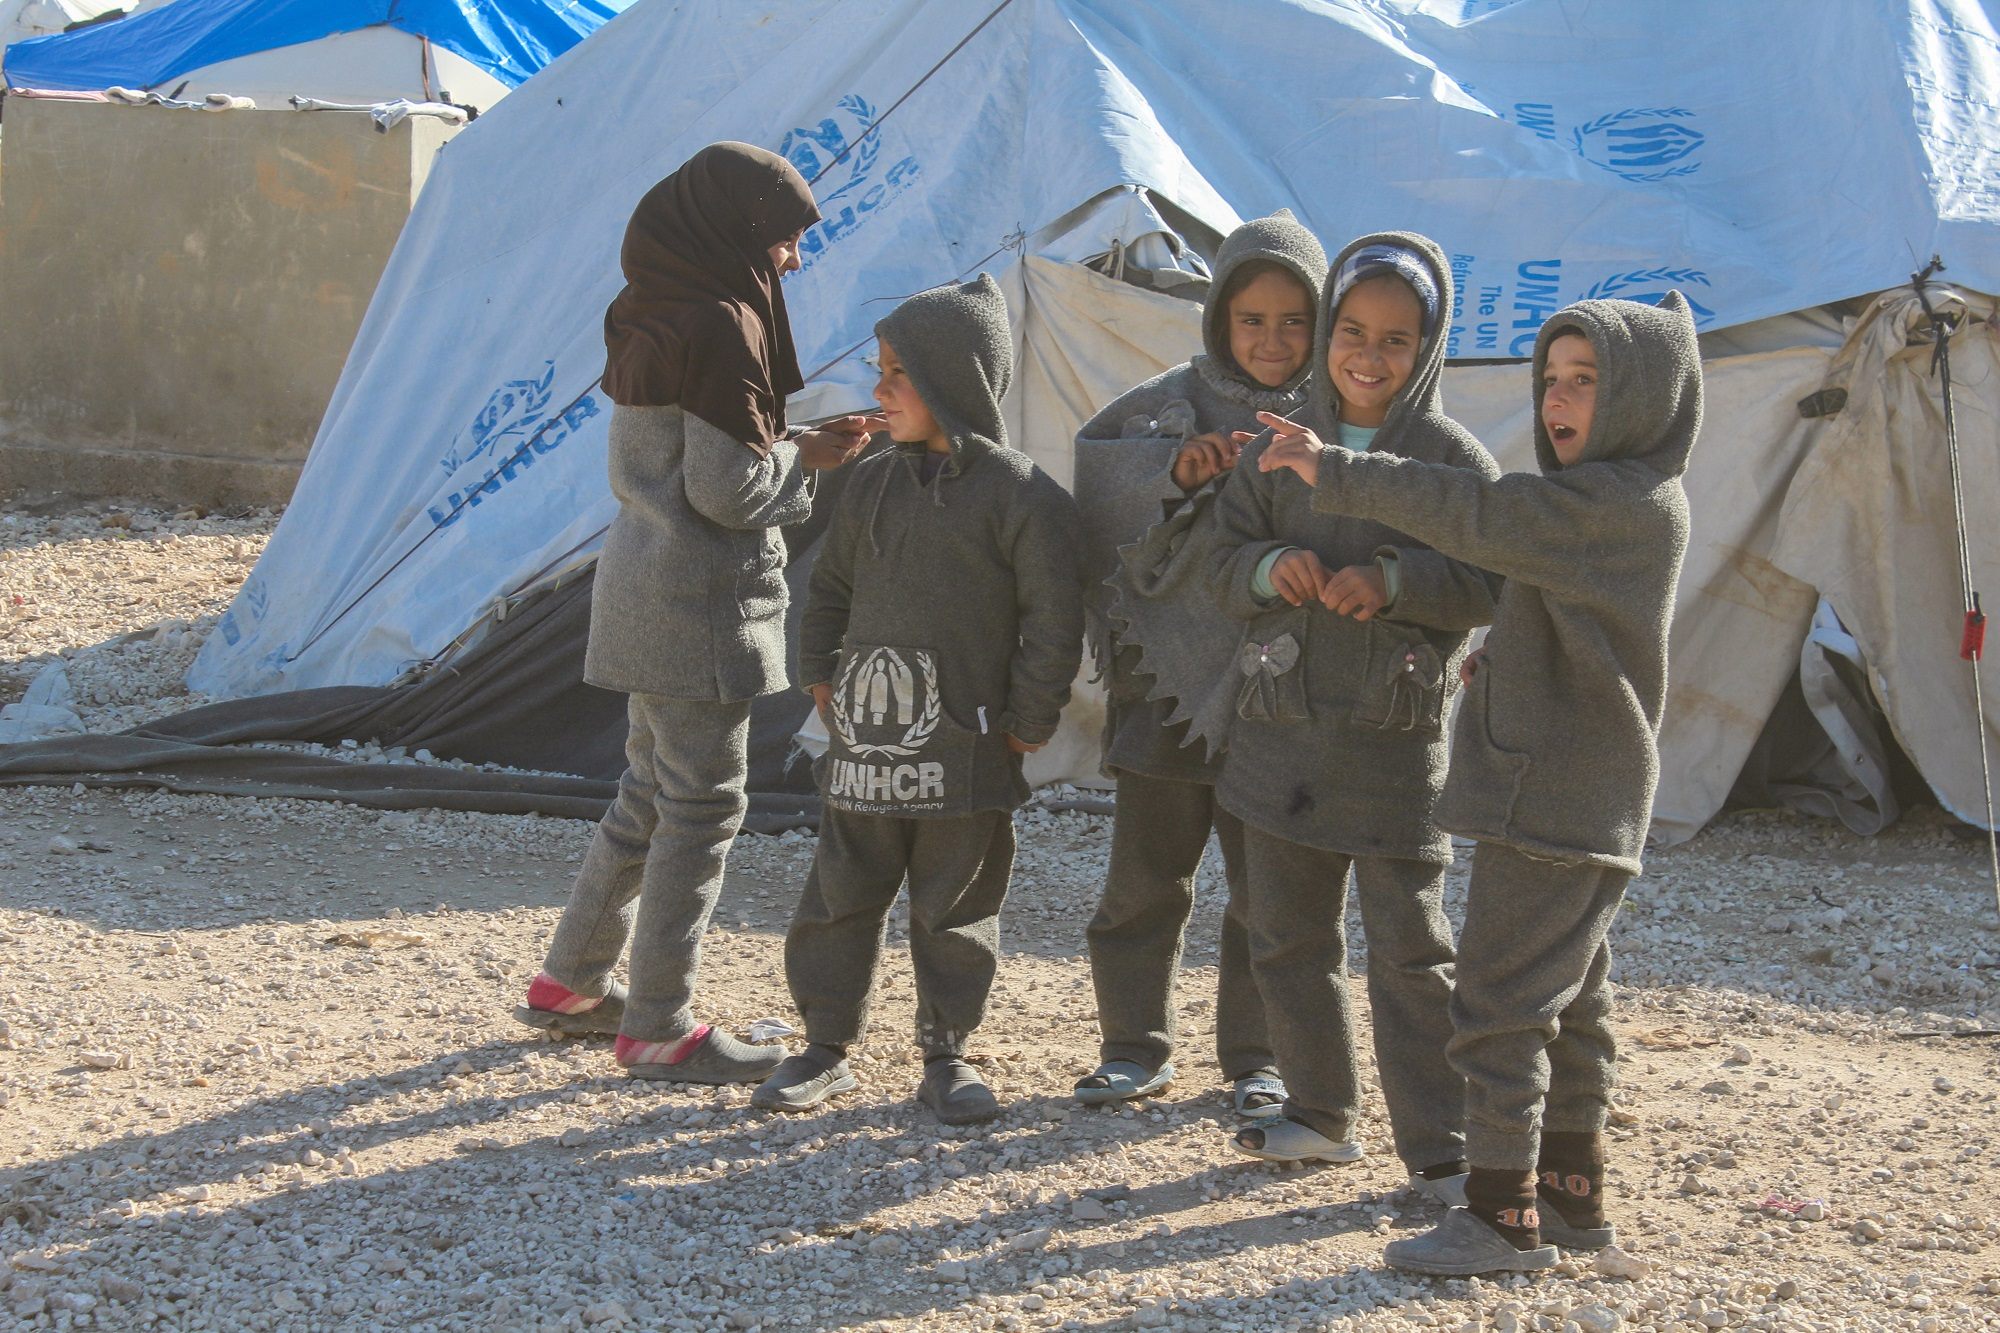person: (499, 134, 813, 1103), (1473, 270, 1719, 1282), (815, 262, 1081, 1129), (1095, 222, 1319, 1158), (1318, 228, 1474, 1203)
